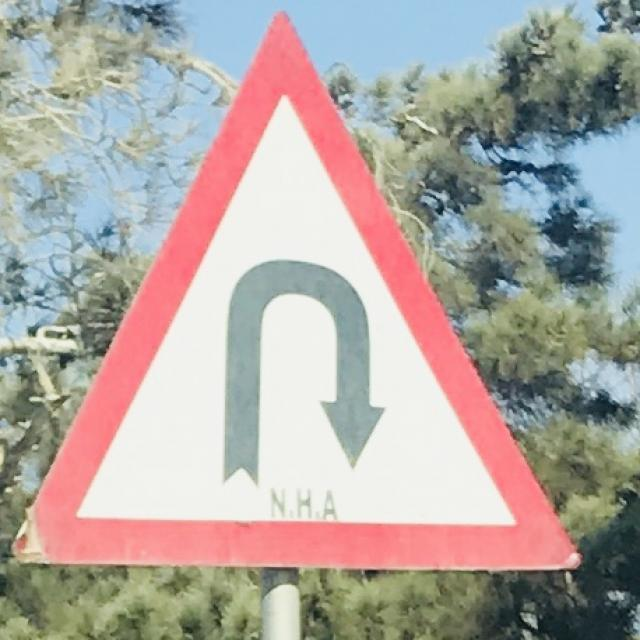u turn: (42, 18, 552, 563)
